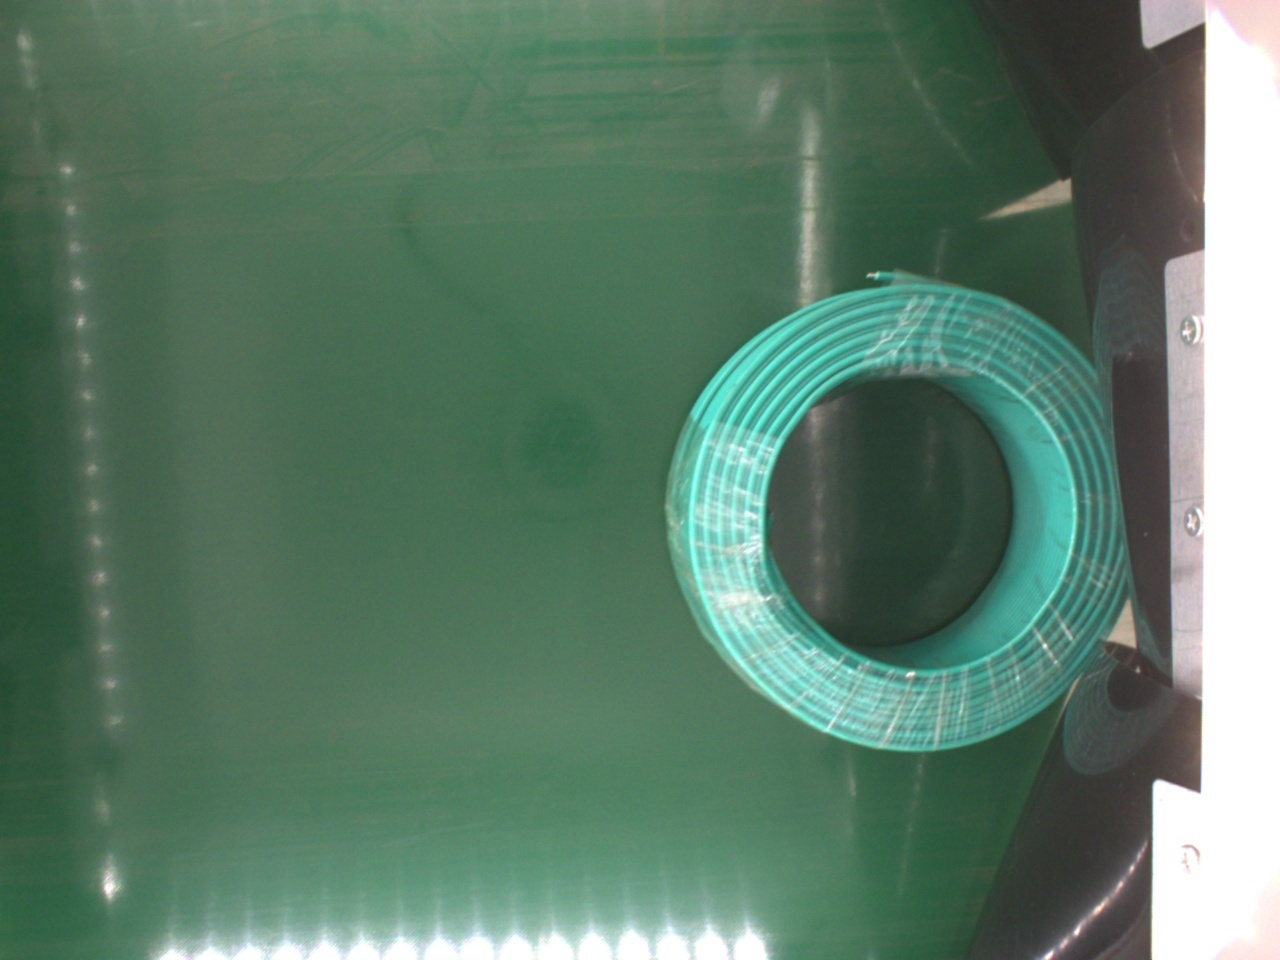green: (662, 275, 1131, 758)
